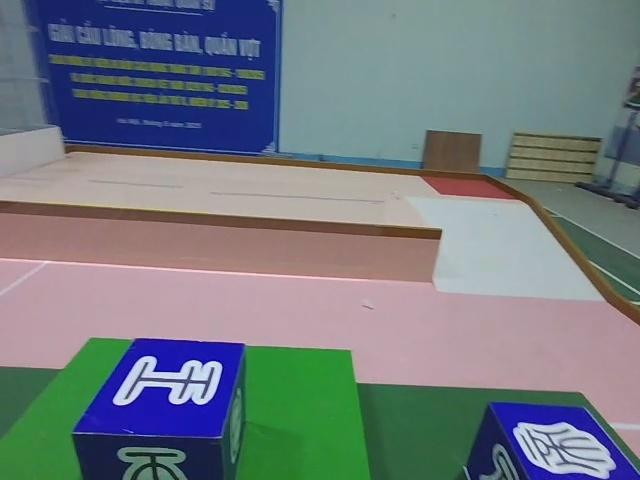R2 Fake Blue: (72, 338, 251, 480), (463, 401, 637, 479)
